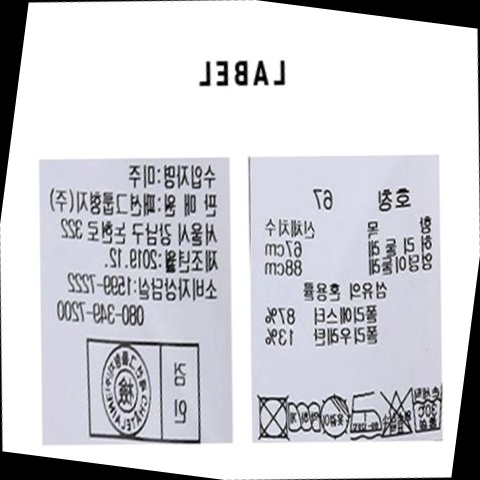DN_bleach: (371, 382, 418, 444)
DN_tumble_dry: (246, 387, 296, 448)
hand_wash: (402, 380, 453, 441)
iron_low: (343, 384, 388, 442)
line_dry_in_shade: (314, 389, 355, 442)
wring: (281, 394, 327, 440)
